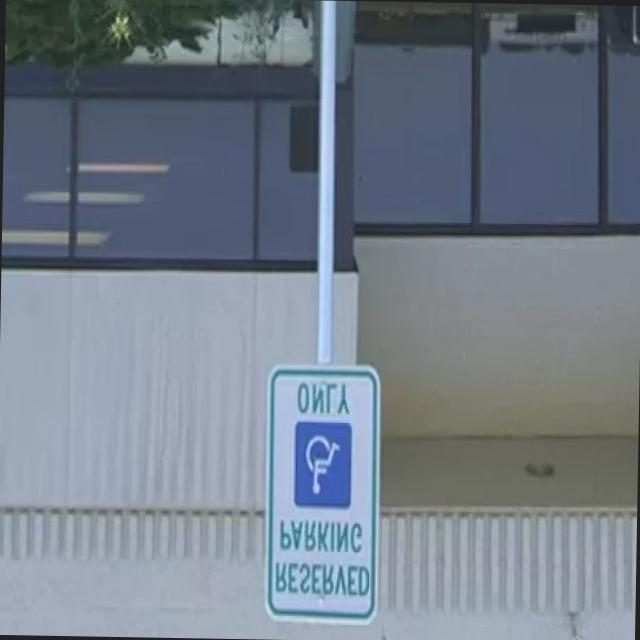symbol_of_access: (293, 420, 353, 508)
